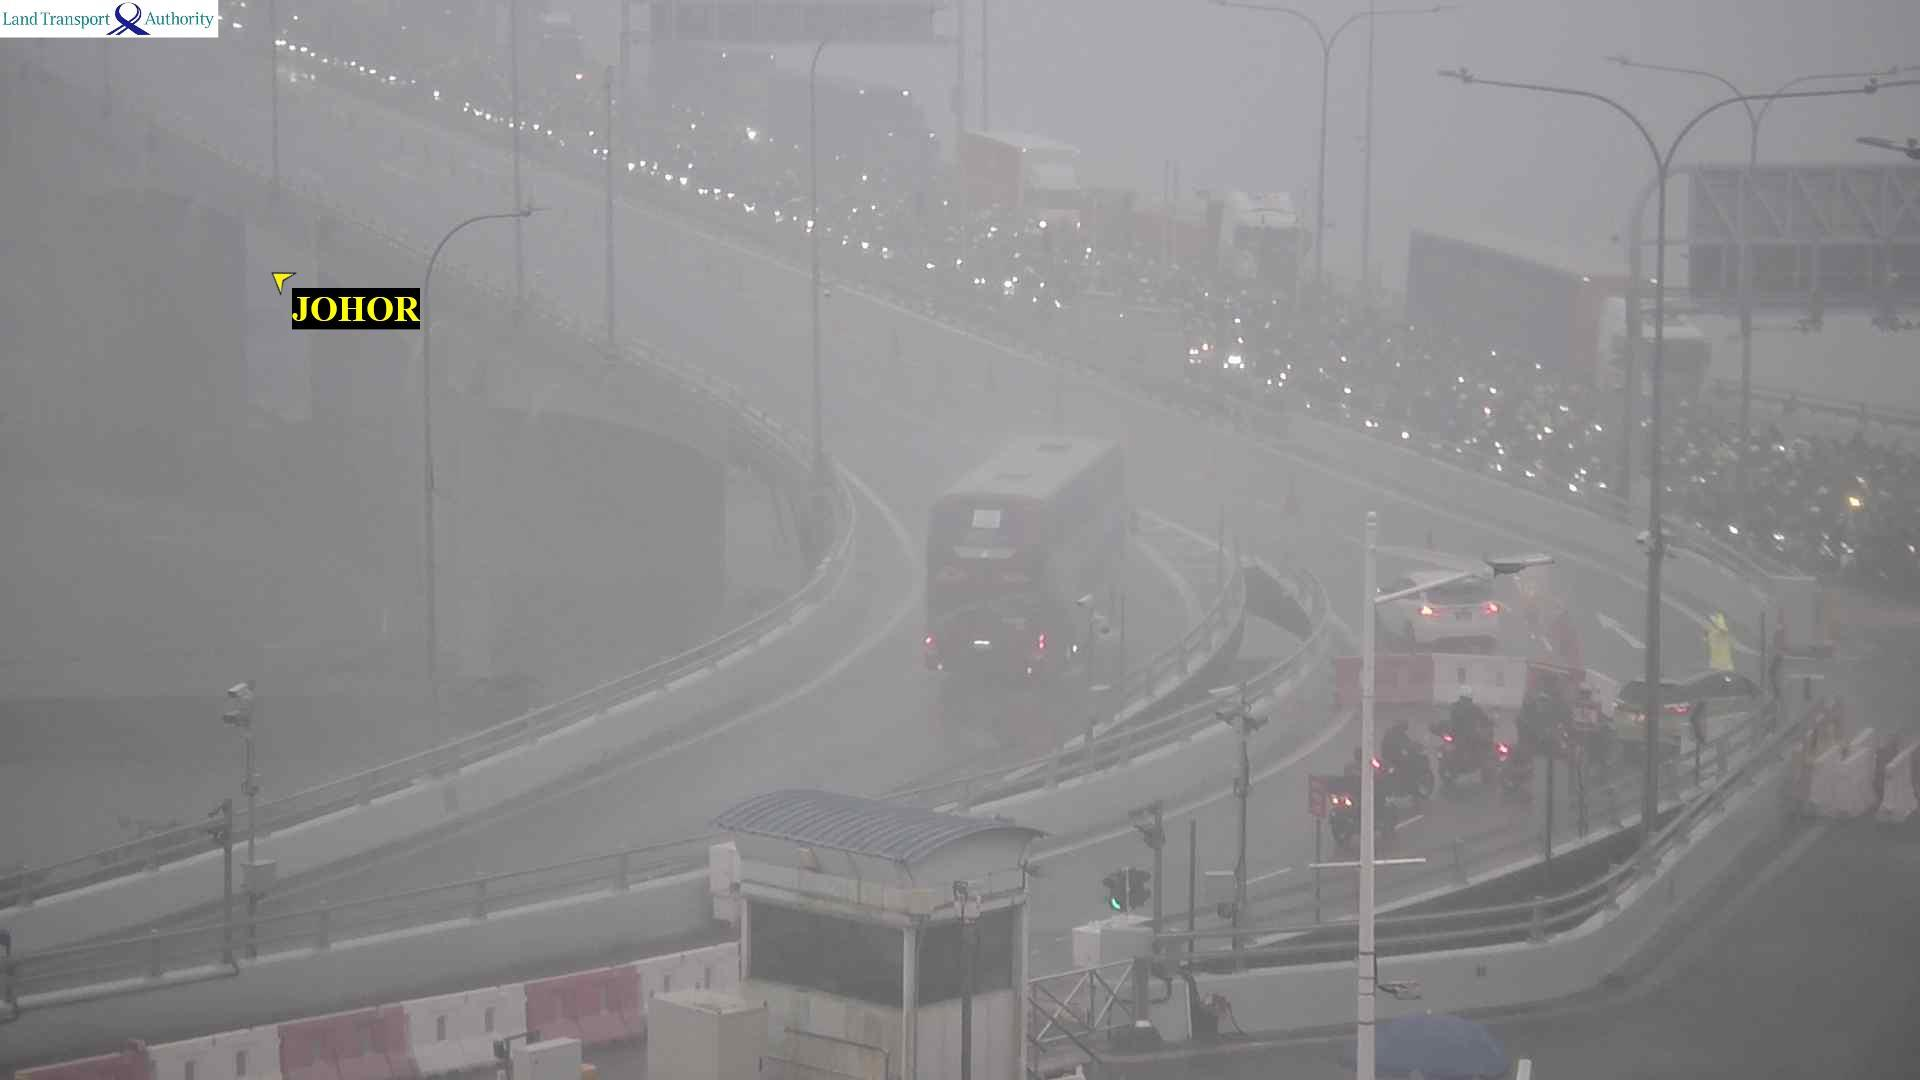vehicle-secondlink-johor: (920, 436, 1124, 670), (1623, 669, 1760, 744), (1379, 564, 1495, 644), (1436, 683, 1507, 786), (1333, 742, 1394, 836), (1567, 682, 1619, 764), (1386, 711, 1429, 802)
vehicle-secondlink-singapore: (1411, 224, 1708, 414), (1124, 182, 1300, 287), (770, 71, 935, 183), (961, 131, 1081, 233)
